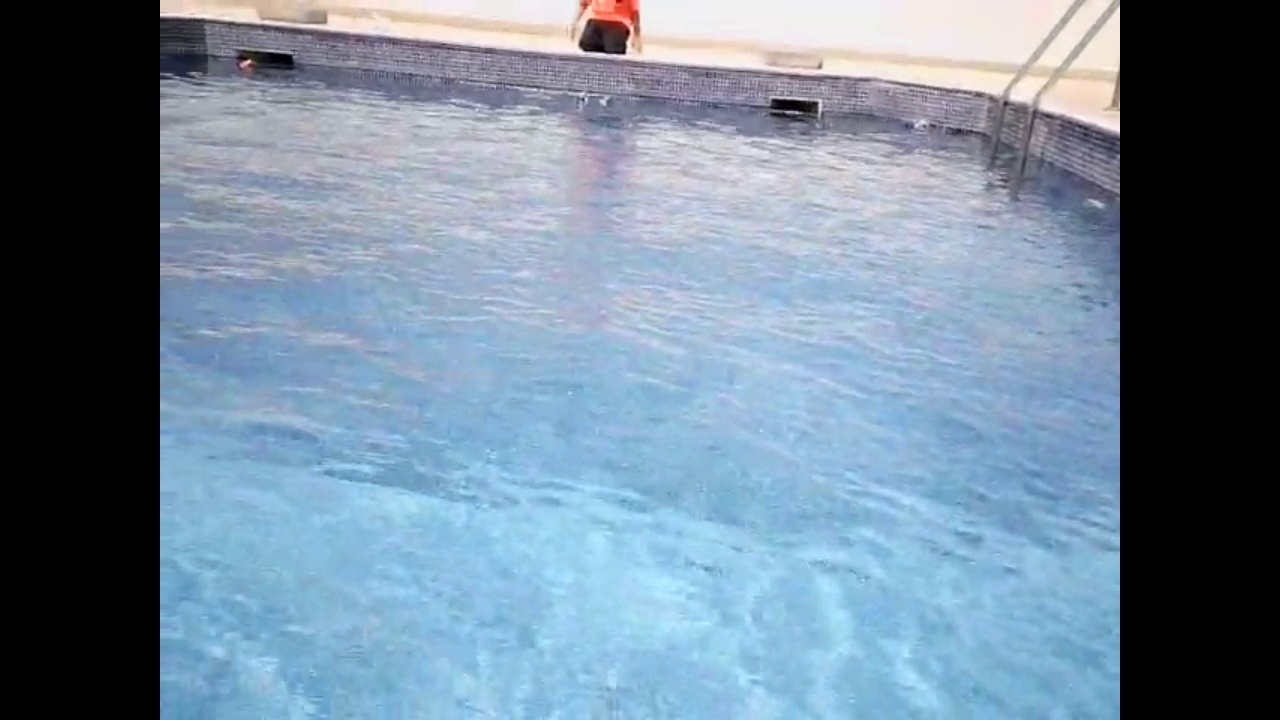debris: (910, 115, 933, 138), (232, 55, 260, 71), (595, 91, 617, 111), (575, 87, 594, 108)
